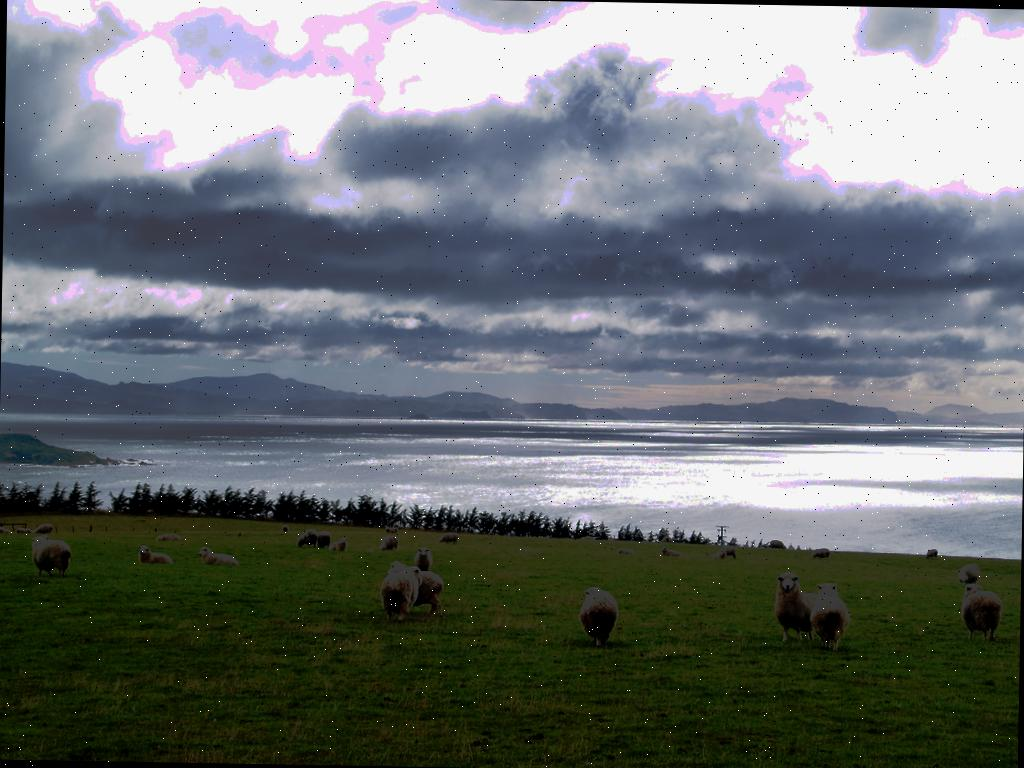Sheep: (770, 568, 819, 645), (388, 560, 446, 615), (576, 586, 622, 652), (808, 582, 849, 651), (960, 582, 1004, 640), (382, 564, 423, 622), (29, 534, 72, 580), (196, 544, 243, 566), (136, 544, 174, 567), (954, 563, 982, 588), (413, 546, 432, 570), (296, 528, 316, 550), (377, 534, 401, 552), (434, 530, 460, 546), (807, 545, 833, 561), (658, 544, 682, 560), (328, 536, 349, 554), (156, 531, 182, 544), (317, 530, 331, 550), (711, 546, 728, 562), (384, 524, 402, 534), (924, 548, 939, 560), (0, 524, 12, 537)
